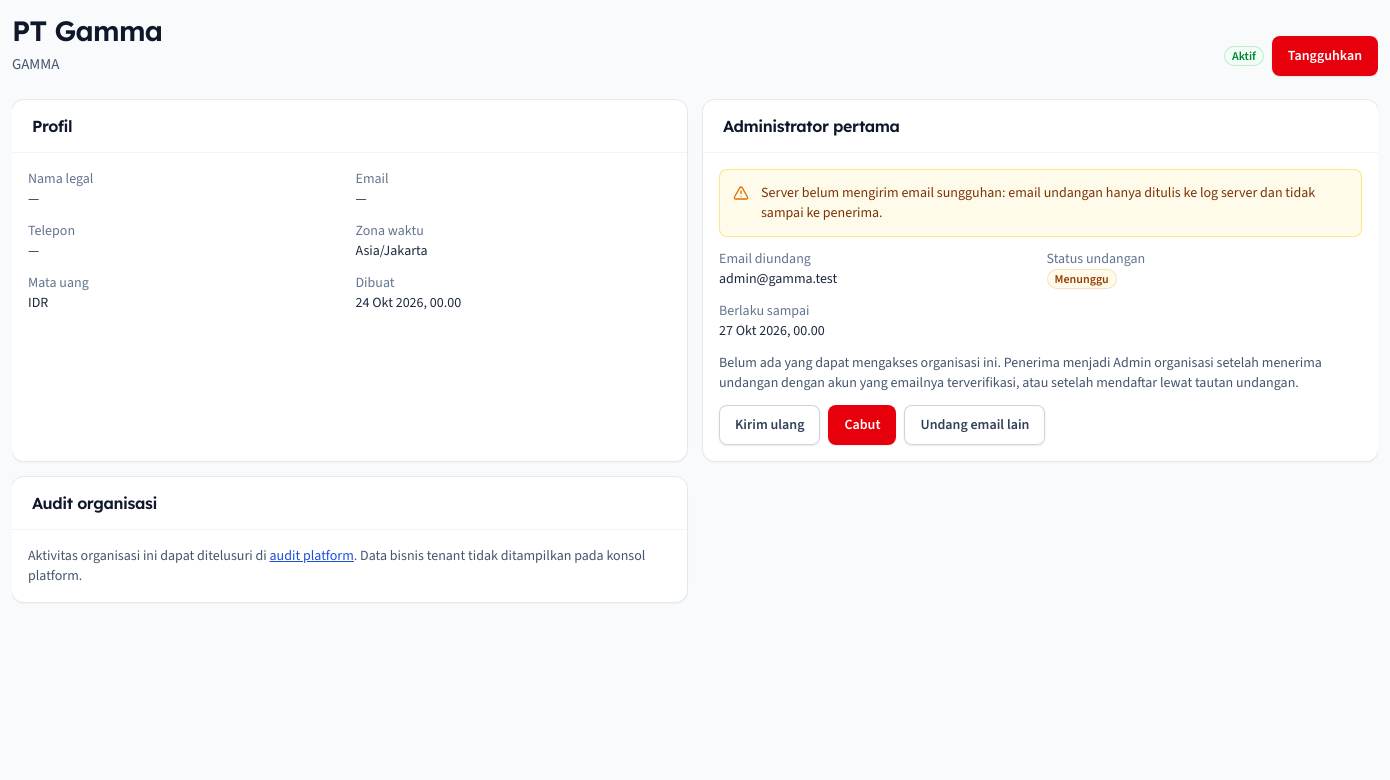
it: Platform: first administrator onboarding › shows a pending invitation and does not claim delivery when emails only go to the log
This screenshot has width=1390, height=780.
Check: the text "admin@gamma.test" is shown, box [719,269,837,288]
Check: the text "Menunggu" is shown, box [1046,269,1117,289]
Click the button "Kirim ulang".
click(770, 425)  # box [719,405,820,445]
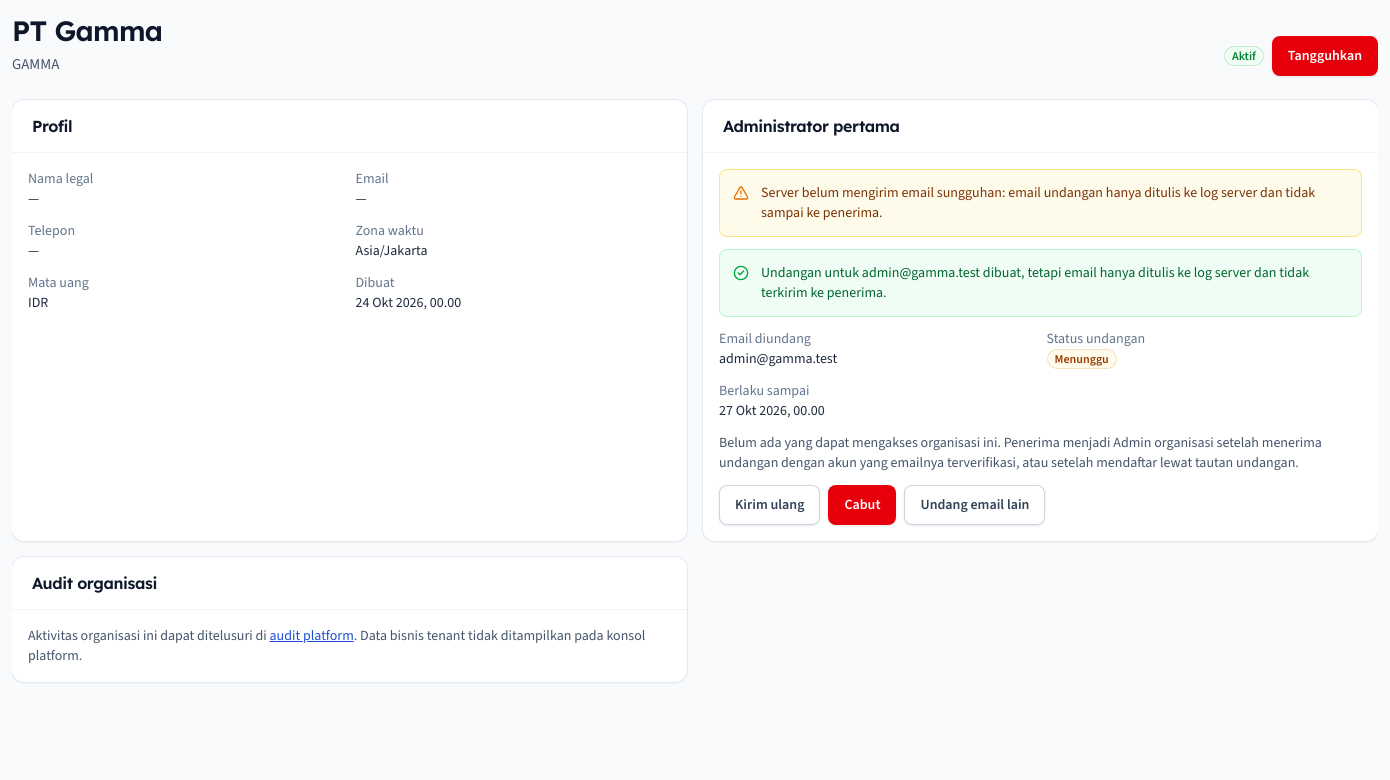
Check: the text "dibuat, tetapi email hanya ditulis ke log server" is shown, box [761,263,1309,302]
